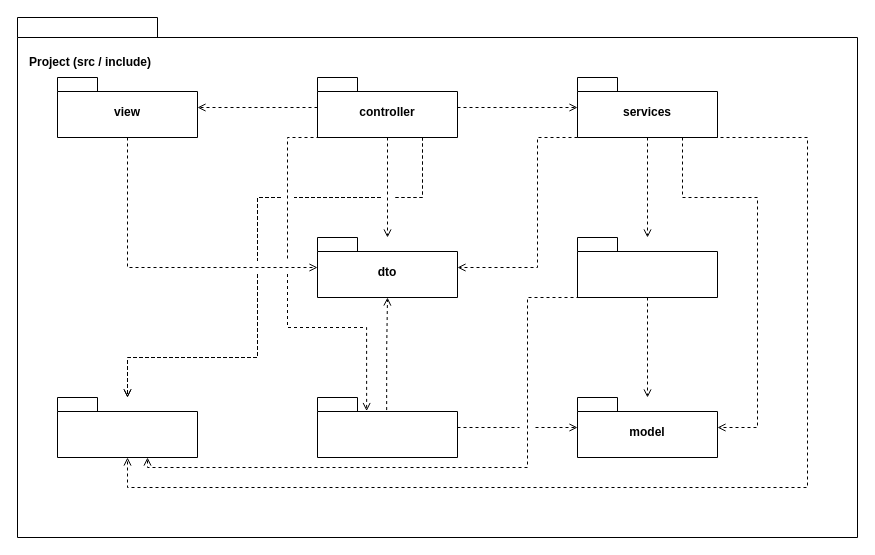
Some shapes in this 875 by 555 pixel diagram are drawn without their labels. The box of each missing label's shape, as (x1, y1, x2, y2) in pixels:
exceptions: (56, 396, 198, 458)
mappers: (316, 396, 458, 458)
repo: (576, 236, 718, 298)
